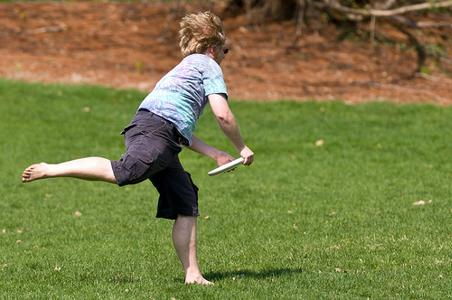person: (22, 13, 256, 286)
